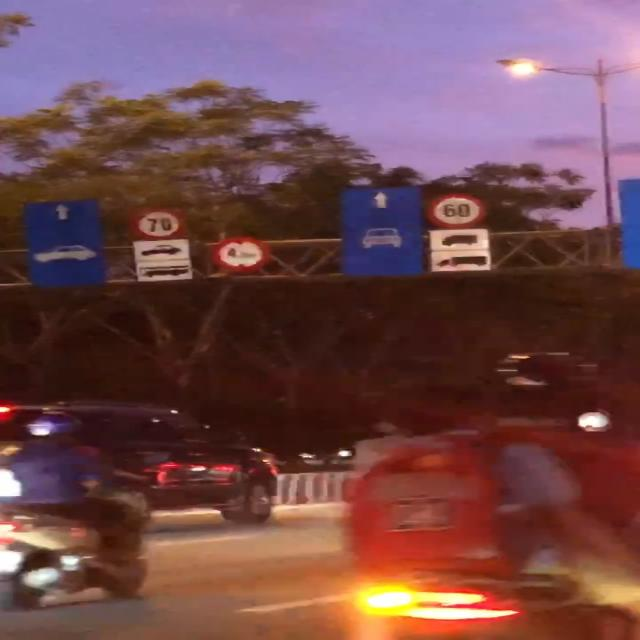Bien bao toc do toi da cho phep: (425, 192, 495, 230), (127, 208, 187, 240)
